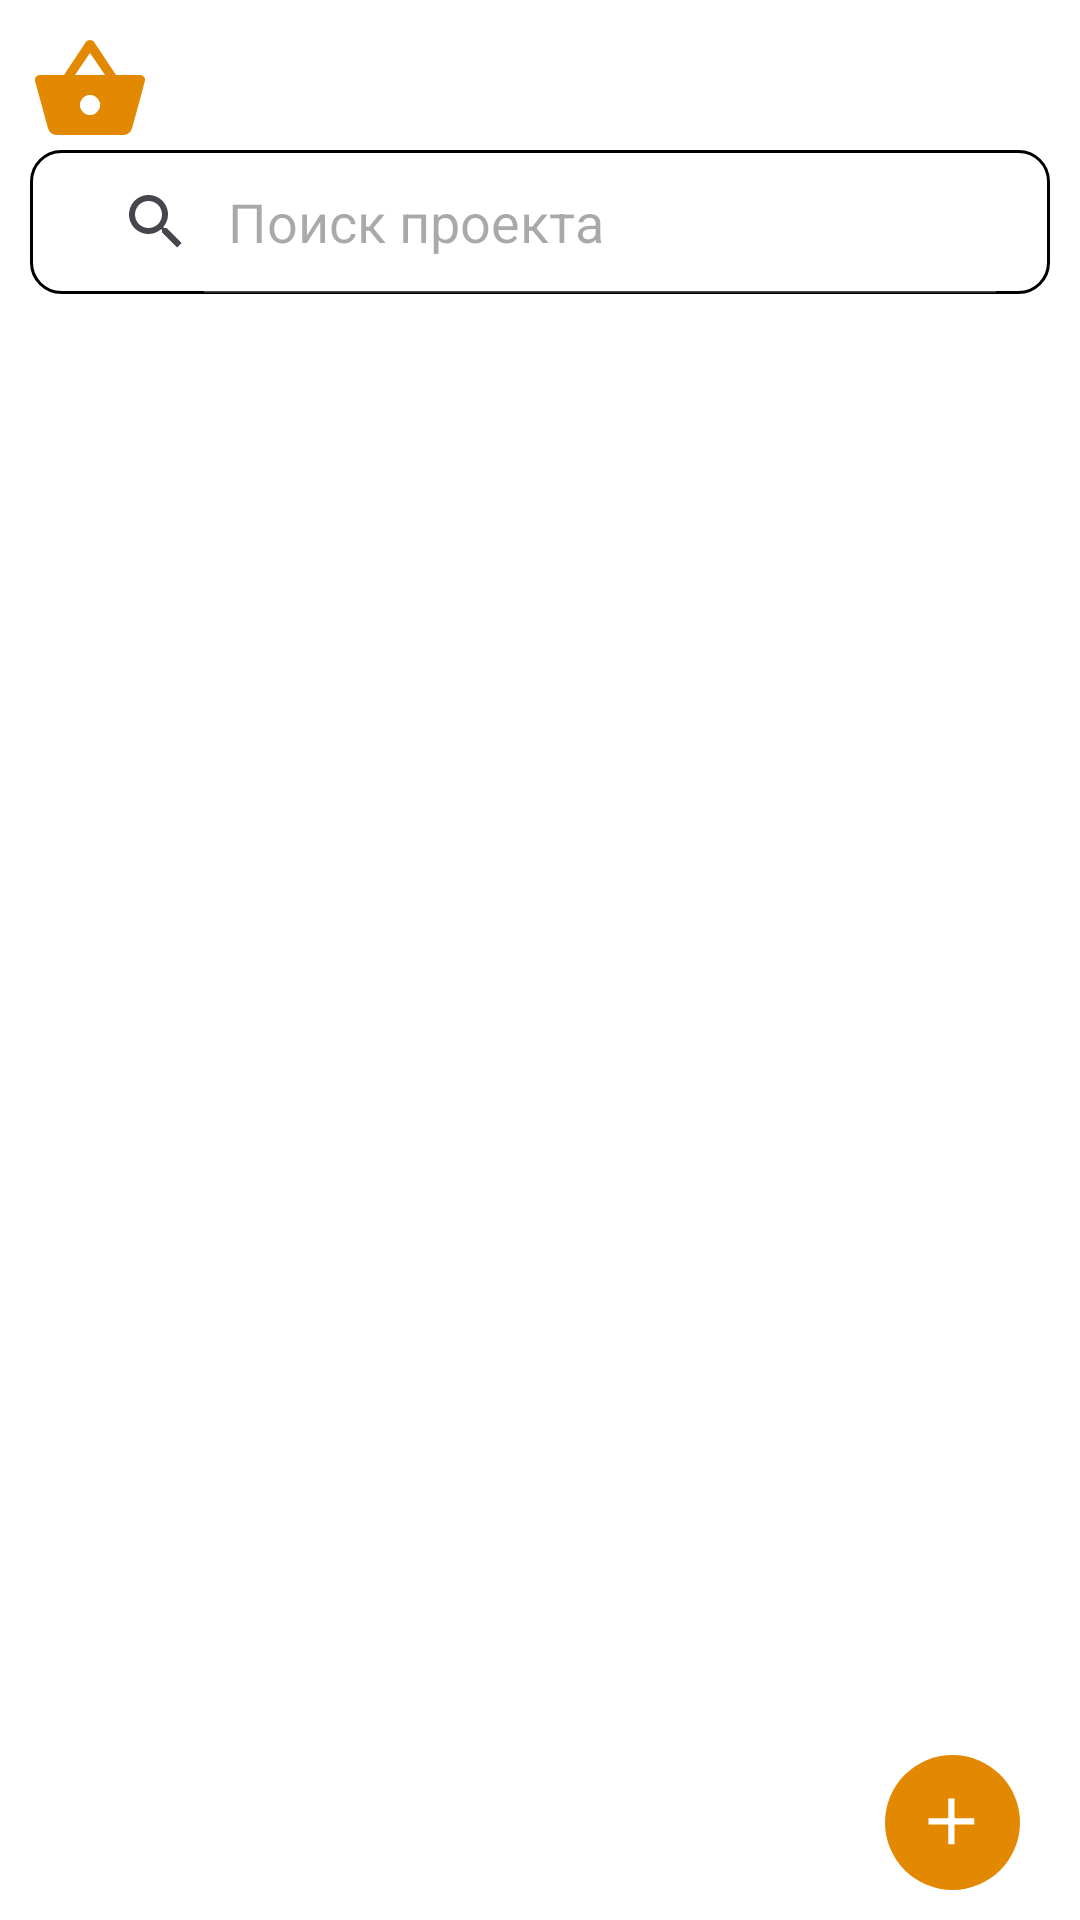

Locate icon controls on the screen. Image size 1080×1920, boxes as (x1, y1, x2, y2).
shoppingbasketshop: (35, 40, 145, 135)
